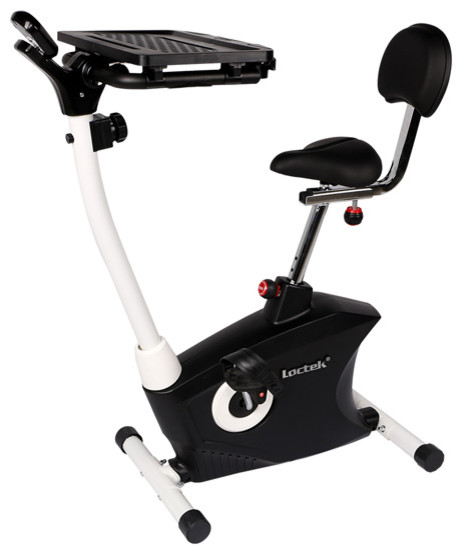gym_bike: (12, 13, 451, 535)
